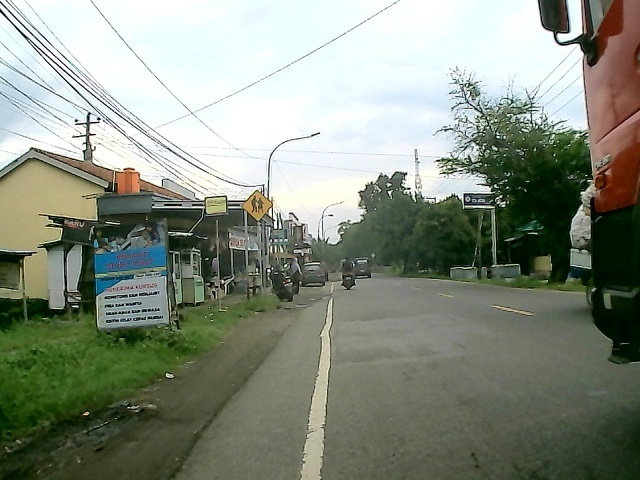Peringatan anak menyeberang: (239, 189, 274, 221)
